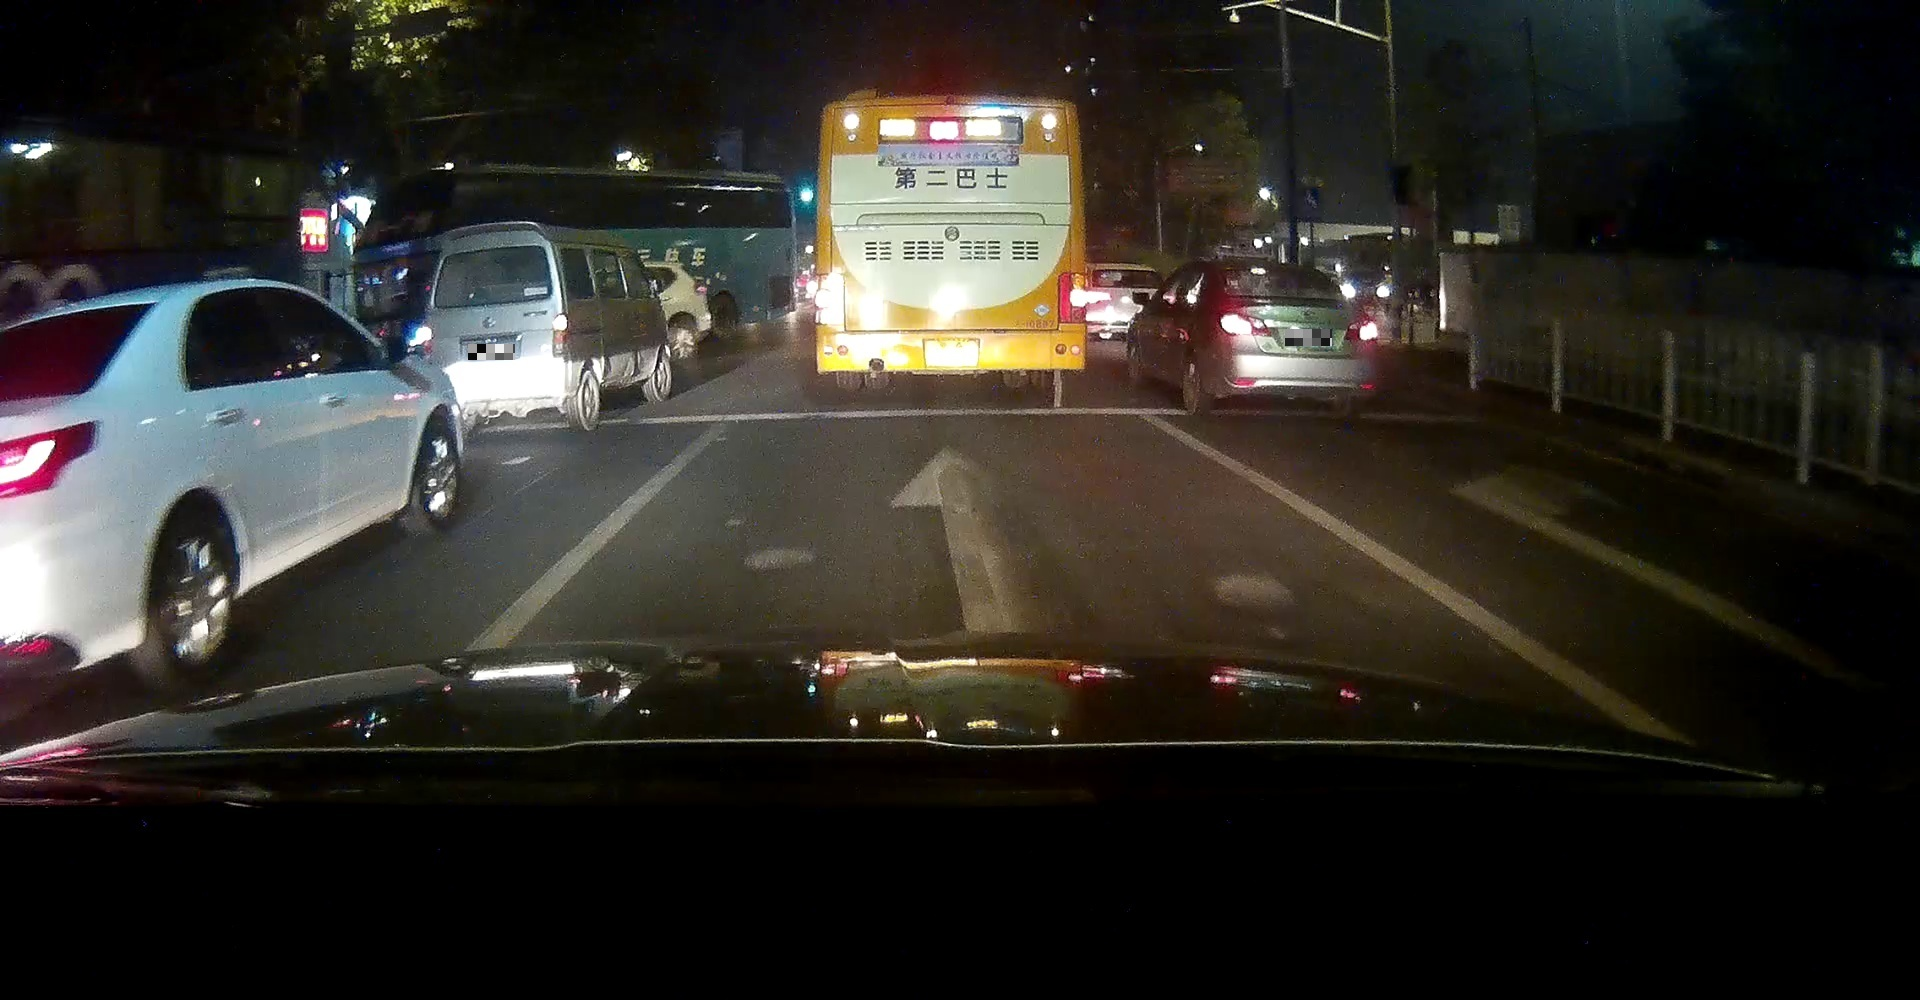L_light: (817, 274, 844, 324), (1219, 312, 1270, 338), (419, 325, 433, 363)
R_light: (1058, 272, 1086, 322), (1343, 313, 1377, 341), (552, 312, 571, 358)
T_light: (932, 110, 957, 121), (1260, 266, 1283, 275), (474, 250, 499, 254)
night-no: (817, 91, 1087, 393), (417, 220, 579, 433), (1209, 256, 1378, 414)
plate_1: (469, 344, 516, 360)
plate_2: (1285, 329, 1332, 346)
